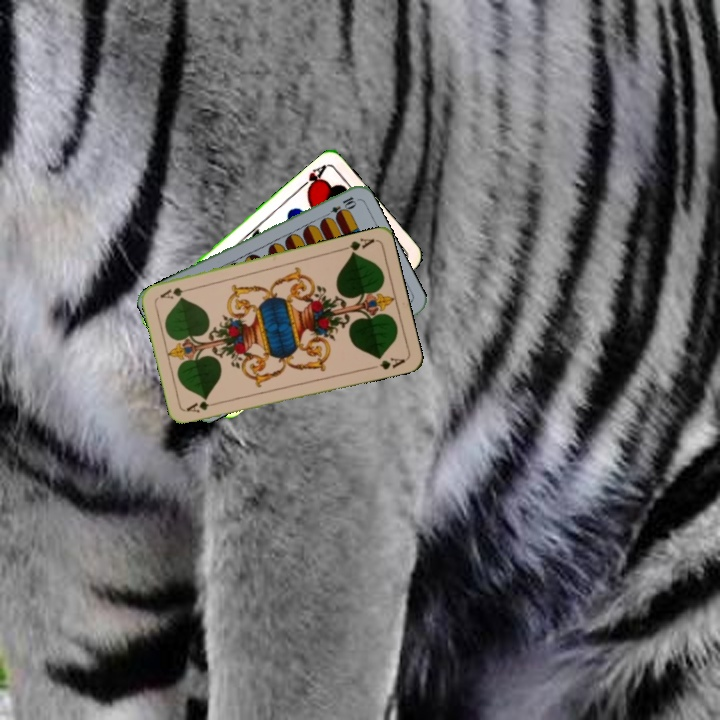E10: (320, 192, 359, 221)
GA: (337, 234, 377, 257), (182, 397, 223, 415)
HA: (296, 160, 330, 195)
